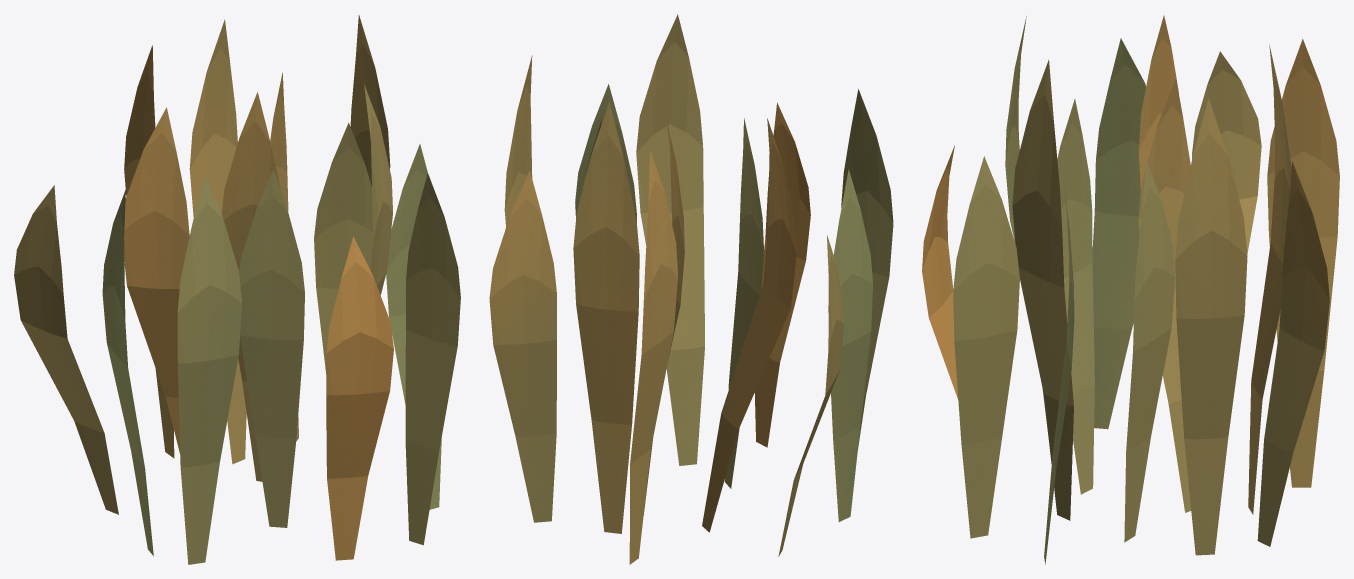
File: grassS1.fbx
3 renders of one model, left to right at view 1: azimuth 30°, elevation 25°; view 2: azimuth 150°, elevation 25°; view 3: azimuth 270°, elevation 25°, orthographic. The views are drawn at different scales.
Visible parts, largest first — view 1: tall grass clump; view 2: tall grass clump; view 3: tall grass clump.
Boxes of the visible parts, bbox=[...] form: tall grass clump: bbox=[14, 15, 460, 564]; tall grass clump: bbox=[489, 14, 893, 564]; tall grass clump: bbox=[922, 15, 1339, 564].
Bounding box in the file's own units: 24.98 × 30.89 × 25.01.
